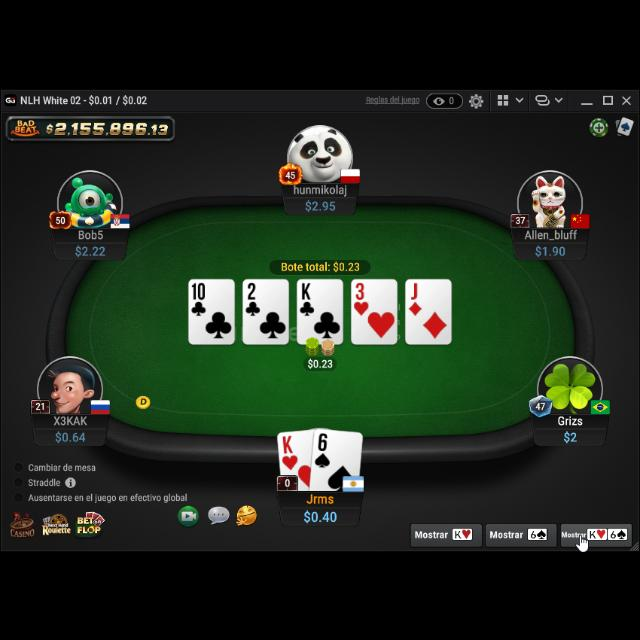2c: (244, 280, 262, 316)
3h: (352, 279, 370, 315)
6s: (314, 430, 332, 468)
Jd: (408, 279, 422, 315)
Kc: (298, 278, 316, 316)
Kh: (282, 432, 300, 468)
Tc: (190, 279, 208, 317)
bet_text: (306, 355, 334, 369)
dealer: (134, 393, 152, 411)
pot_text: (281, 258, 361, 270)
stack_text: (304, 504, 338, 522), (303, 198, 337, 212), (74, 243, 106, 257), (535, 243, 567, 257), (55, 429, 87, 441), (562, 426, 580, 440)
